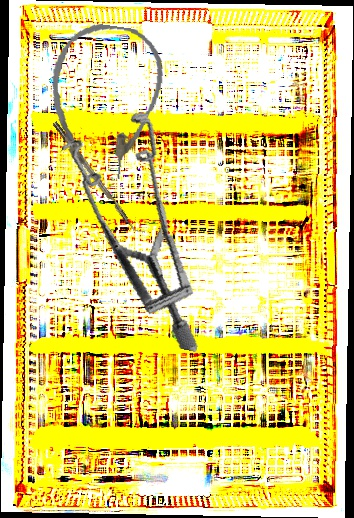Cannula: (39, 18, 170, 184)
Chopper: (52, 117, 146, 239)
Speculum: (26, 97, 243, 353)
